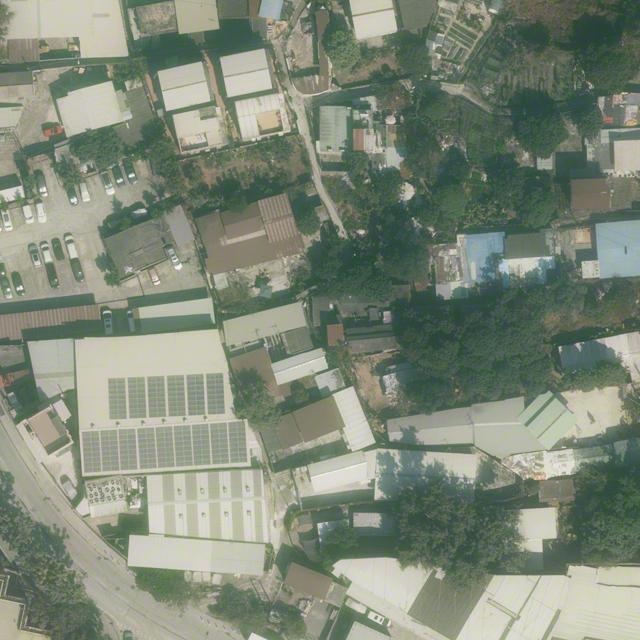panel: (81, 420, 248, 473), (110, 373, 225, 420)
